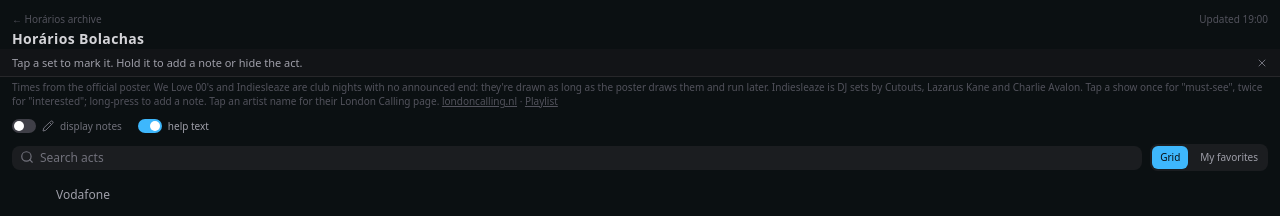
Test: TimetableApp help text switch › hides the whole blurb with it: facts, how-to and links
The image size is (1280, 216).
Expected: the text "Tap a show once" is shown, [12,80,1262,108]
Expected: the link "londoncalling.nl" is shown, [442,94,517,108]
Click the switch labelled "help text" at (173, 126), box [138,113,209,140]
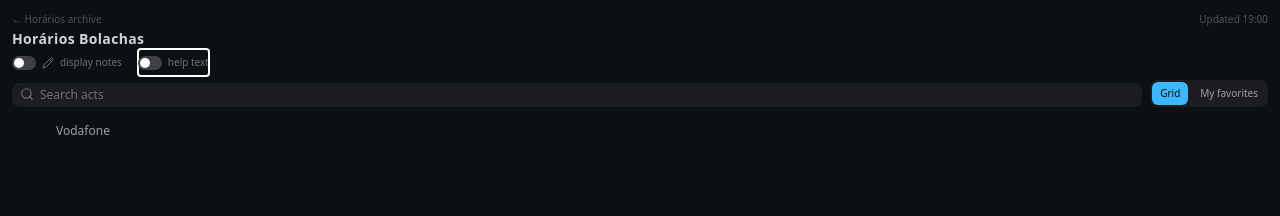
Now the text "Times from the official poster" is gone
Now the text "Tap a show once" is gone
Now the link "londoncalling.nl" is gone
